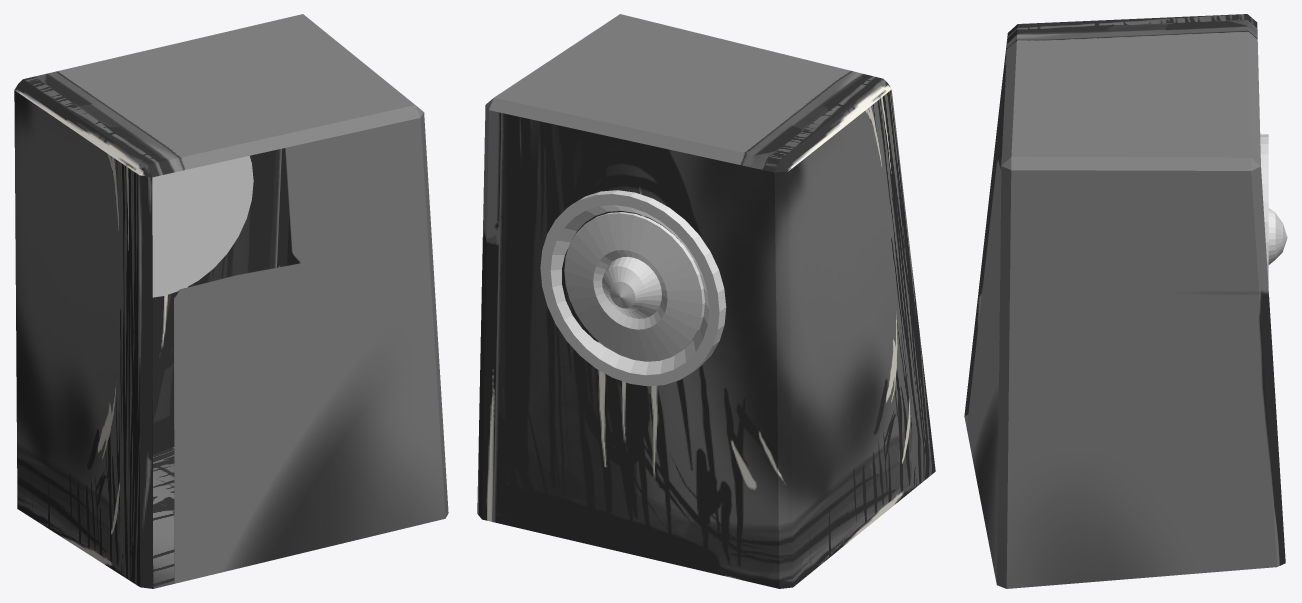
Rendered from assetts.fbx_Scene_001.fbx.
The picture shows the model from 3 angles, left to right: view 1: azimuth 30°, elevation 25°; view 2: azimuth 150°, elevation 25°; view 3: azimuth 270°, elevation 25°; orthographic projection.
Parts seen in each view (by area): view 1: cassa, speaker; view 2: cassa, speaker; view 3: cassa, speaker.
Boxes of the visible parts, <box> form: cassa: <box>14,14,448,588</box>; speaker: <box>152,156,253,297</box>; cassa: <box>477,14,935,588</box>; speaker: <box>540,190,726,386</box>; cassa: <box>964,14,1285,588</box>; speaker: <box>1260,134,1287,285</box>.
Size of the model in its own units: 723 by 902 by 618.
Materials: 1 (1 with a texture image).
